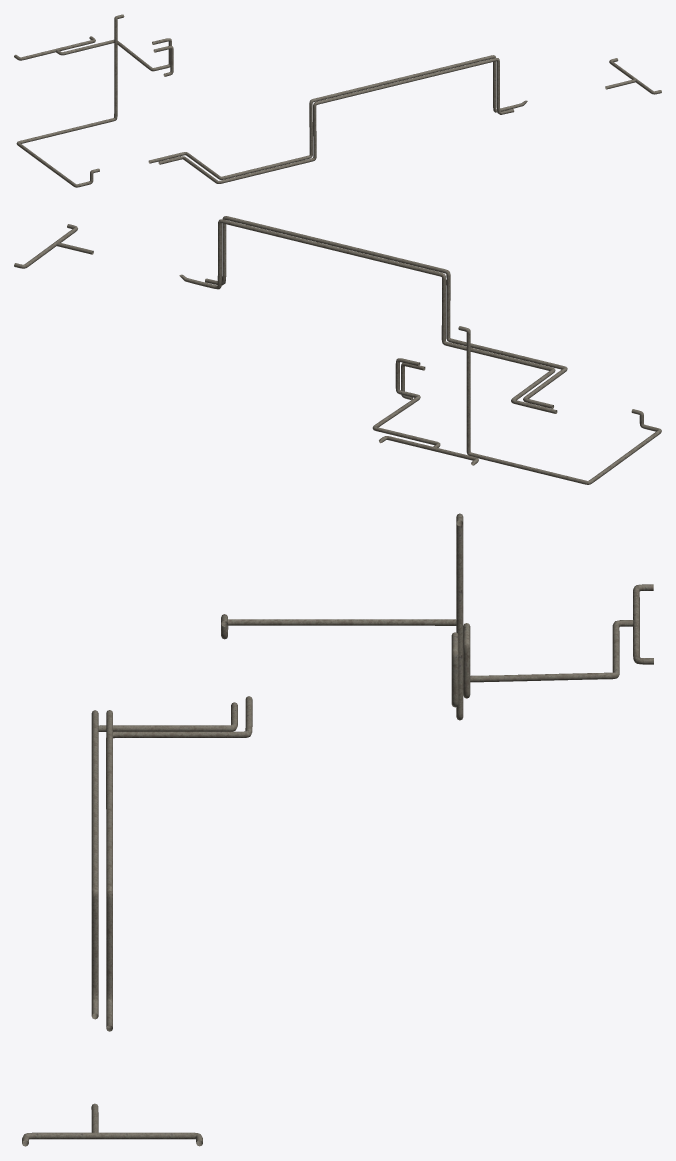
The model's file is world03_pipes.glb.
3 renders of one model, top to bottom at view 1: azimuth 30°, elevation 25°; view 2: azimuth 150°, elevation 25°; view 3: azimuth 270°, elevation 25°, orthographic. The views are drawn at different scales.
Visible parts, largest first — view 1: Prop.world03_pipes; view 2: Prop.world03_pipes; view 3: Prop.world03_pipes.
Boxes of the visible parts, box(x1,y1,x2,y2) form: Prop.world03_pipes: box(14, 14, 661, 187); Prop.world03_pipes: box(14, 216, 661, 484); Prop.world03_pipes: box(22, 513, 653, 1146).
Bounding box in the file's own units: 42.68 × 7.94 × 21.77.
1 material, 1 textured.
